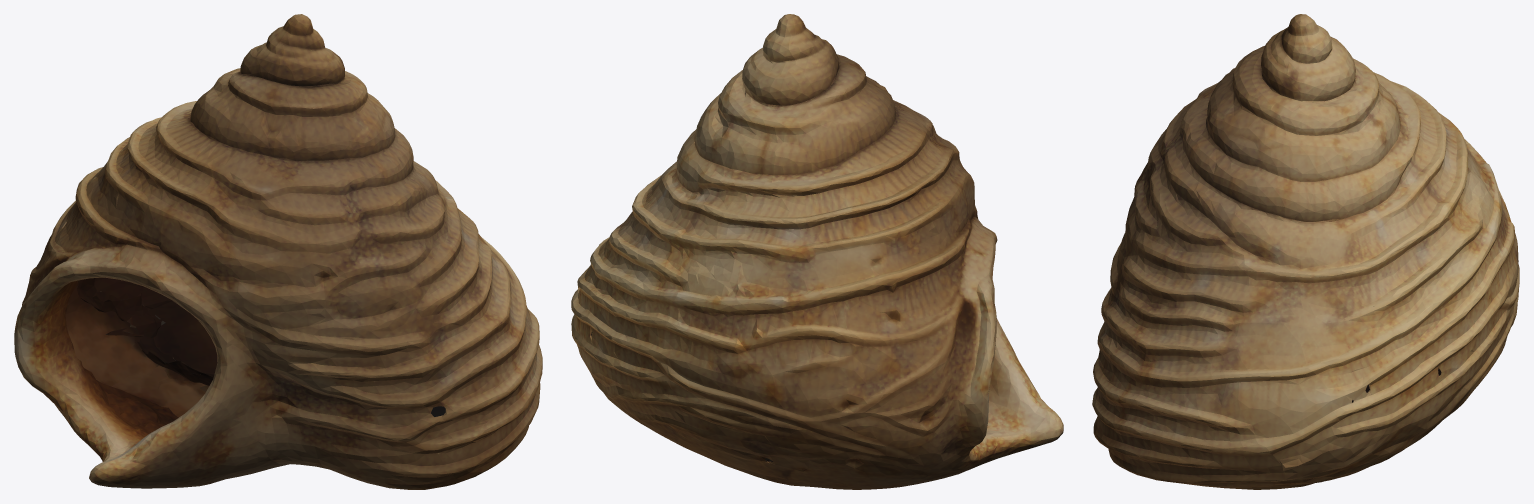
The picture shows the model from 3 angles, left to right: view 1: azimuth 30°, elevation 25°; view 2: azimuth 150°, elevation 25°; view 3: azimuth 270°, elevation 25°; orthographic projection.
Parts seen in each view (by area): view 1: world; view 2: world; view 3: world.
Boxes of the visible parts, <box> form: world: <box>14,14,542,489</box>; world: <box>571,14,1063,489</box>; world: <box>1092,14,1519,489</box>.
Bounding box in the file's own units: 0.055 × 0.0501 × 0.0462.
1 material, 1 textured.
